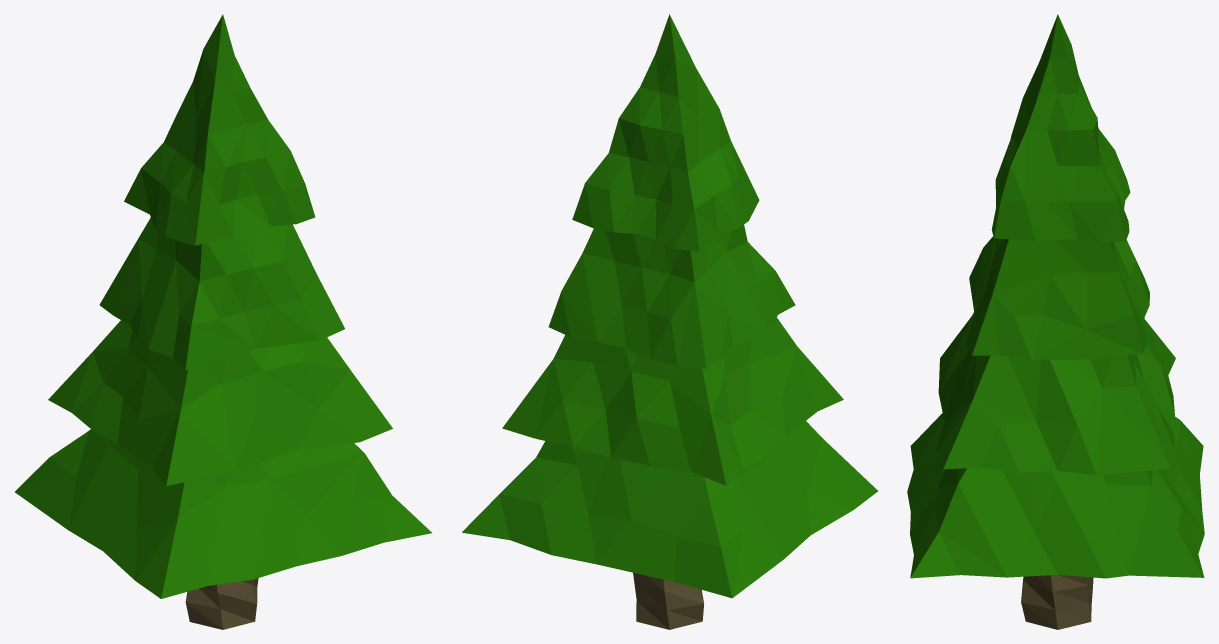
The model's file is tree2.obj.
The picture shows the model from 3 angles, left to right: view 1: azimuth 30°, elevation 25°; view 2: azimuth 150°, elevation 25°; view 3: azimuth 270°, elevation 25°; orthographic projection.
Visible parts, largest first — view 1: Leaves, Trunk; view 2: Leaves, Trunk; view 3: Leaves, Trunk.
Boxes of the visible parts, left/top/right/bottom form: Leaves: left=15, top=14, right=431, bottom=598; Trunk: left=185, top=578, right=258, bottom=629; Leaves: left=462, top=14, right=877, bottom=598; Trunk: left=633, top=572, right=703, bottom=629; Leaves: left=907, top=14, right=1204, bottom=578; Trunk: left=1021, top=575, right=1093, bottom=629.
Bounding box in the file's own units: 164 × 345 × 155.
